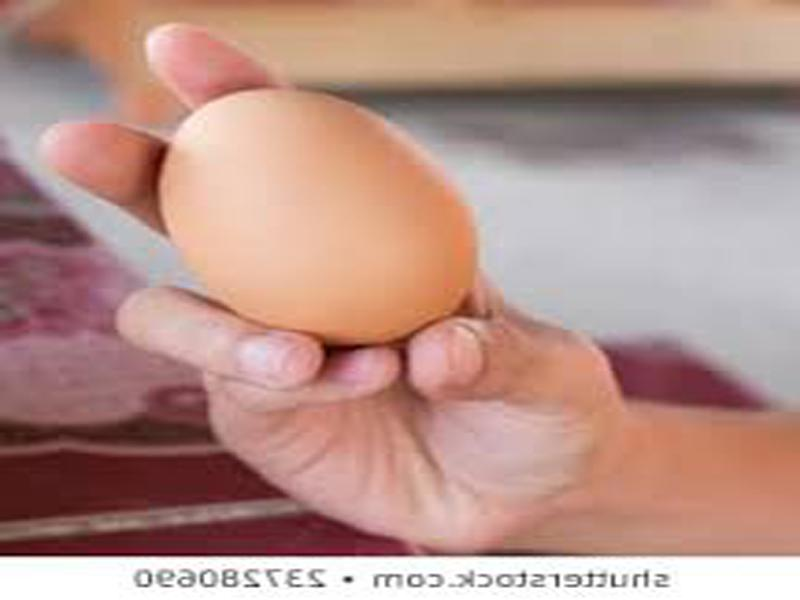Eggs: (155, 90, 473, 342)
